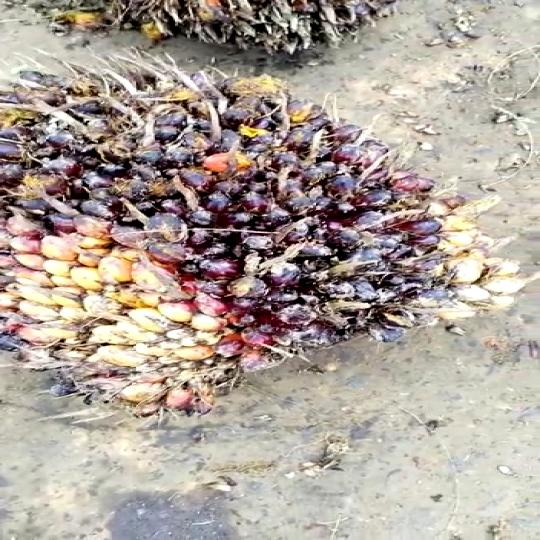mentah: (0, 48, 497, 411)
